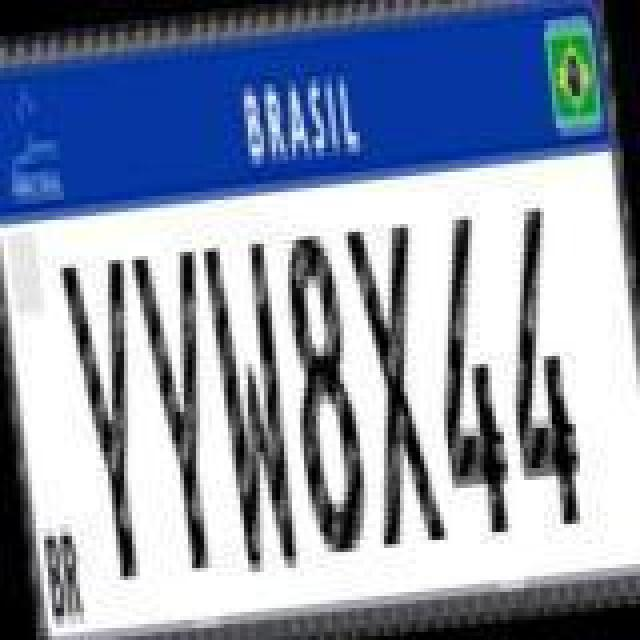4: (484, 196, 588, 532), (414, 208, 514, 544)
8: (272, 224, 376, 560)
W: (200, 236, 304, 580)
X: (340, 216, 444, 552)
Y: (126, 242, 234, 574), (60, 254, 164, 586)
